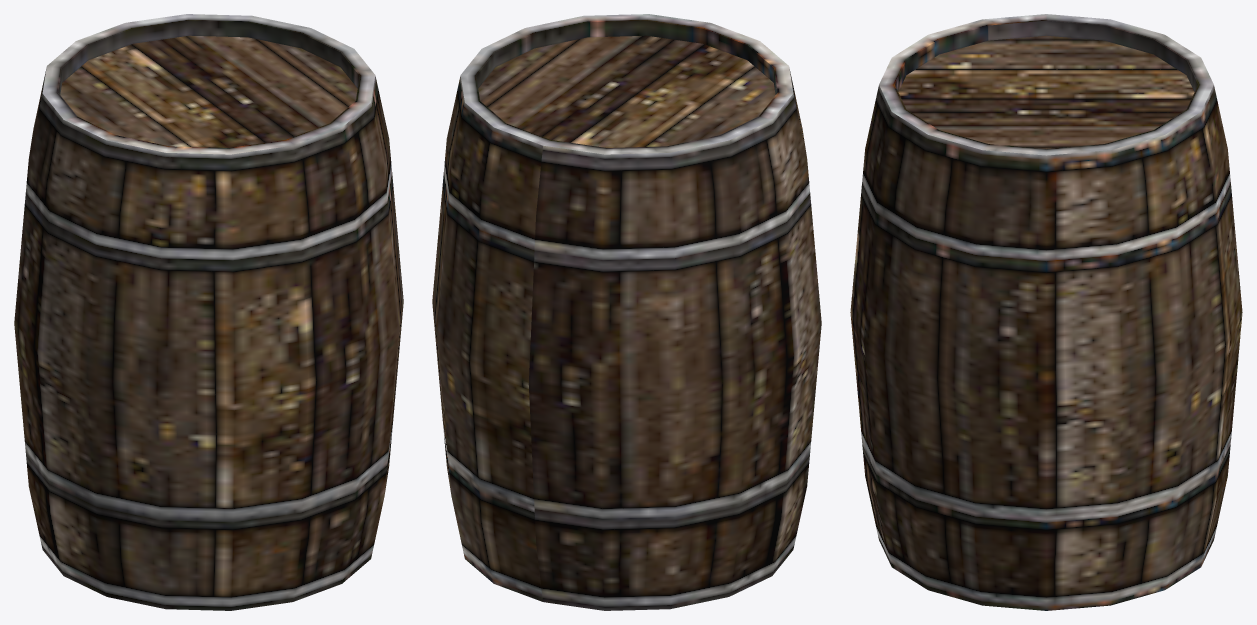
Rendered from barrel.fbx.
3 views of the same model, side by side, from view 1: azimuth 30°, elevation 25°; view 2: azimuth 150°, elevation 25°; view 3: azimuth 270°, elevation 25° (orthographic).
Visible parts, largest first — view 1: Barrel; view 2: Barrel; view 3: Barrel.
Part boxes in pixels (bbox=[...]): Barrel: bbox=[14, 14, 403, 610]; Barrel: bbox=[432, 14, 821, 610]; Barrel: bbox=[850, 14, 1242, 610].
Bounding box in the file's own units: 0.9363 × 1.2 × 0.9363.
